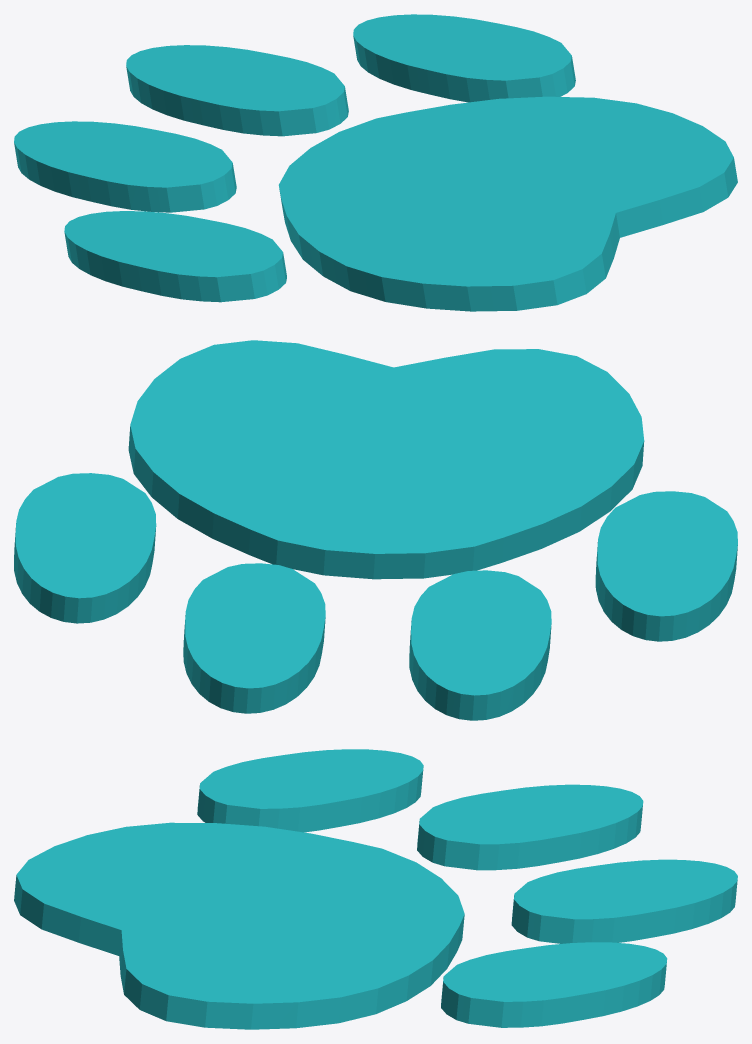
The model's file is menu_paw1.glb.
3 renders of one model, top to bottom at view 1: azimuth 30°, elevation 25°; view 2: azimuth 150°, elevation 25°; view 3: azimuth 270°, elevation 25°, orthographic. The views are drawn at different scales.
Visible parts, largest first — view 1: Paw Main.003; view 2: Paw Main.003; view 3: Paw Main.003.
Boxes of the visible parts, x1=… form: Paw Main.003: x1=14, y1=14, x2=737, y2=311; Paw Main.003: x1=14, y1=340, x2=737, y2=720; Paw Main.003: x1=14, y1=749, x2=737, y2=1029.
Size of the model in its own units: 0.4498 by 0.0427 by 0.4971.
